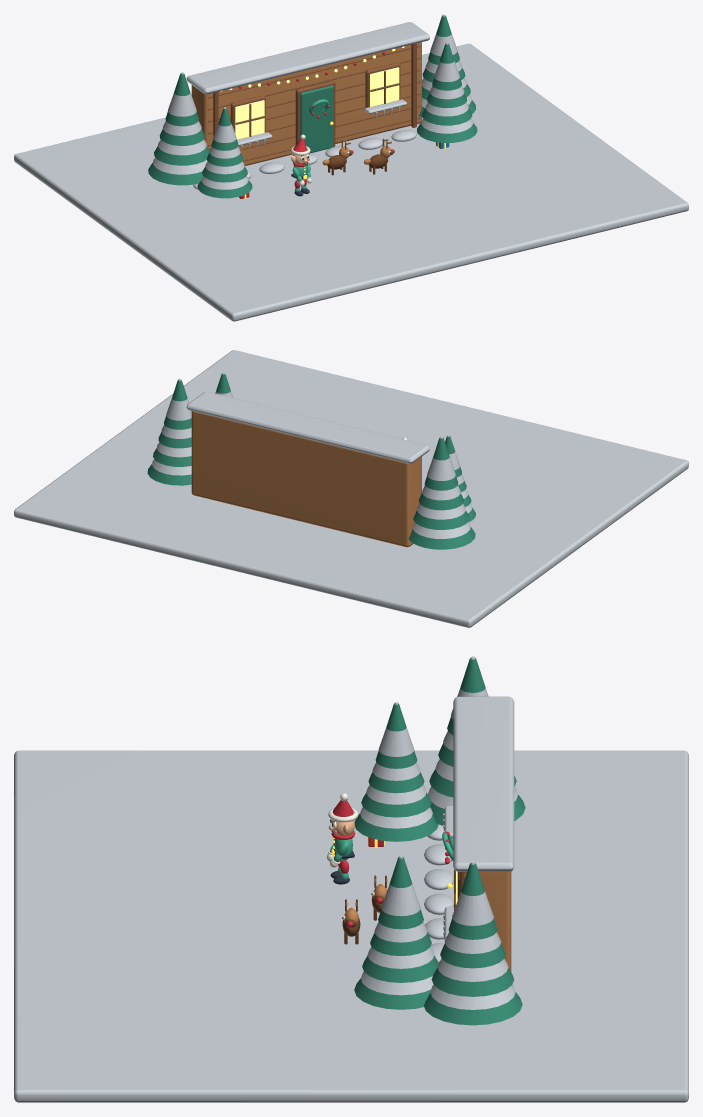
Rendered from chapter-16.glb.
3 renders of one model, top to bottom at view 1: azimuth 30°, elevation 25°; view 2: azimuth 150°, elevation 25°; view 3: azimuth 270°, elevation 25°, orthographic. The views are drawn at different scales.
Visible parts, largest first — view 1: Schneeboden, Werkstatt, Schneegesims, Wichteltür, Warmes Fenster, Warmes Fenster.001, Tannenzweig.004, Tannenzweig.008, Tannenzweig.009, Türrahmen, Tannenzweig.011, Schnee.011 (+7 smaller); view 2: Schneeboden, Werkstatt, Schneegesims, Tannenzweig.008, Tannenzweig.009, Tannenzweig.011, Schnee.008, Schnee.011, Tannenzweig.015, Tannenzweig.012, Tannenzweig.010, Schnee.009 (+1 smaller); view 3: Schneeboden, Schneegesims, Werkstatt, Tannenzweig.012, Tannenzweig.013, Tannenzweig.015, Tannenzweig, Schnee.012, Tannenzweig.005, Tannenzweig.004, Schnee.015, Tannenzweig.007 (+15 smaller).
Part boxes in pixels (x1,y1,x2,y2): Schneeboden: (14, 43, 688, 321); Werkstatt: (191, 42, 421, 165); Schneegesims: (186, 22, 429, 94); Wichteltür: (300, 85, 333, 153); Warmes Fenster: (235, 100, 264, 139); Warmes Fenster.001: (370, 67, 399, 106); Tannenzweig.004: (417, 122, 477, 142); Tannenzweig.008: (148, 163, 202, 185); Tannenzweig.009: (154, 146, 209, 165); Türrahmen: (295, 81, 335, 146); Tannenzweig.011: (165, 73, 198, 126); Schnee.011: (168, 72, 196, 116); Schneeboden: (14, 350, 688, 627); Werkstatt: (191, 411, 421, 547); Schneegesims: (186, 391, 429, 463); Tannenzweig.008: (408, 527, 475, 549); Tannenzweig.009: (413, 510, 469, 529); Tannenzweig.011: (424, 437, 458, 490); Schnee.008: (412, 522, 470, 538); Schnee.011: (427, 436, 455, 480); Tannenzweig.015: (164, 380, 191, 429); Tannenzweig.012: (147, 464, 191, 485); Tannenzweig.010: (419, 493, 463, 510); Schnee.009: (417, 504, 465, 519); Schneeboden: (14, 750, 688, 1102); Schneegesims: (453, 696, 514, 871); Werkstatt: (466, 871, 511, 971); Tannenzweig.012: (424, 992, 522, 1025); Tannenzweig.013: (431, 968, 514, 996); Tannenzweig.015: (448, 863, 497, 939); Tannenzweig: (354, 813, 438, 841); Schnee.012: (430, 985, 515, 1009); Tannenzweig.005: (362, 955, 438, 982); Tannenzweig.004: (354, 978, 430, 1009); Schnee.015: (452, 861, 493, 925); Tannenzweig.007: (378, 857, 423, 929).
Bounding box in the file's own units: 18 × 4.39 × 15.
